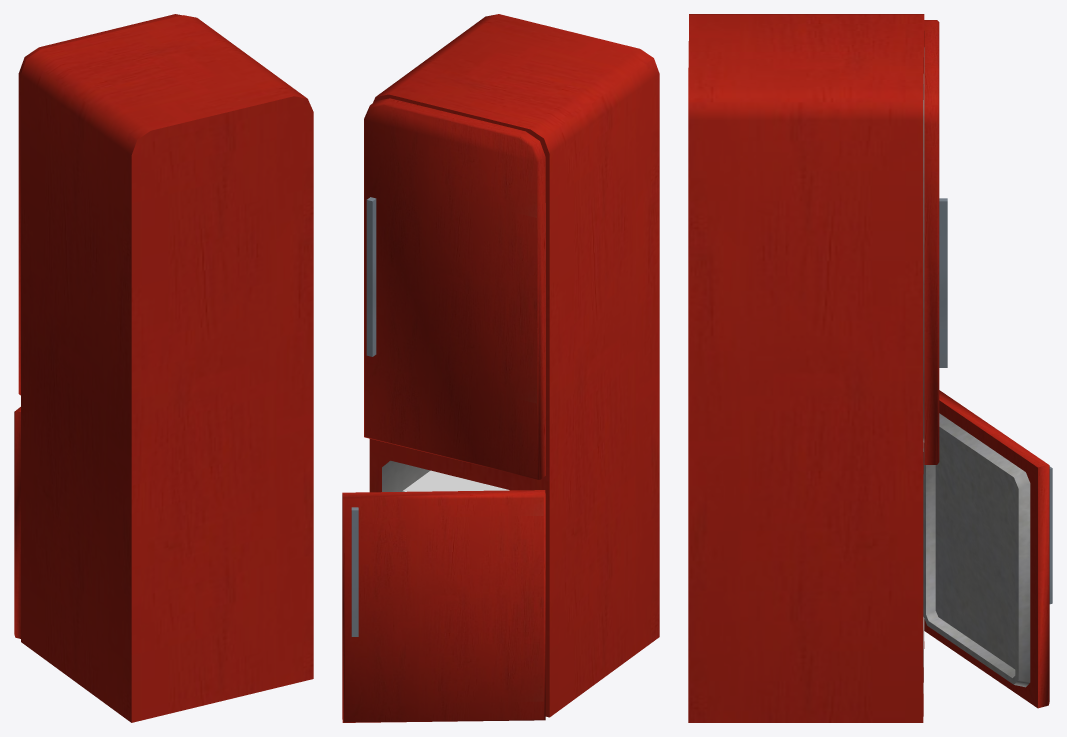
The model's file is fridge.glb.
3 views of the same model, side by side, from view 1: azimuth 30°, elevation 25°; view 2: azimuth 150°, elevation 25°; view 3: azimuth 270°, elevation 25° (orthographic). The views are drawn at different scales.
Visible parts, largest first — view 1: Refrigerator_03, Refrigerator_door_07, Refrigerator_door_06; view 2: Refrigerator_03, Refrigerator_door_06, Refrigerator_door_07; view 3: Refrigerator_03, Refrigerator_door_07, Refrigerator_door_06.
Part boxes in pixels (bbox=[...]): Refrigerator_03: bbox=[21, 15, 313, 722]; Refrigerator_door_07: bbox=[14, 407, 20, 638]; Refrigerator_door_06: bbox=[18, 14, 181, 395]; Refrigerator_03: bbox=[369, 14, 659, 717]; Refrigerator_door_06: bbox=[364, 98, 545, 479]; Refrigerator_door_07: bbox=[342, 490, 545, 722]; Refrigerator_03: bbox=[688, 14, 924, 722]; Refrigerator_door_07: bbox=[923, 390, 1052, 708]; Refrigerator_door_06: bbox=[923, 20, 947, 464].
Size of the model in its own units: 0.7322 by 2.26 by 1.19.
Materials: 4 (3 with a texture image).
